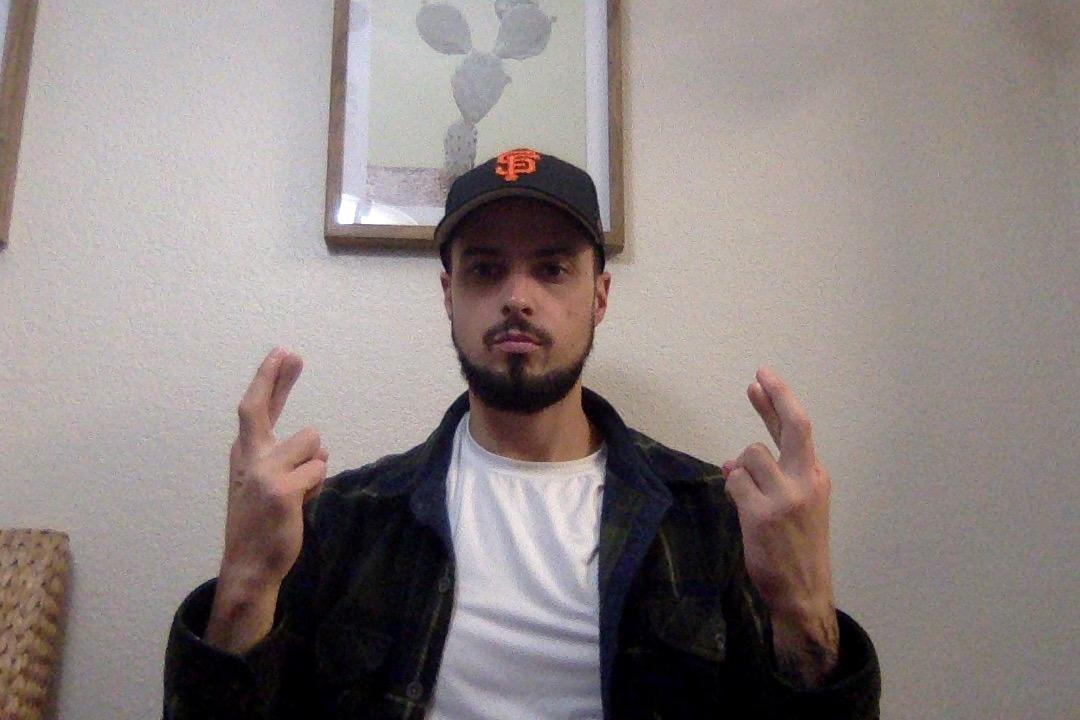Fingers-Crossed: (720, 360, 857, 647), (215, 337, 332, 639)
